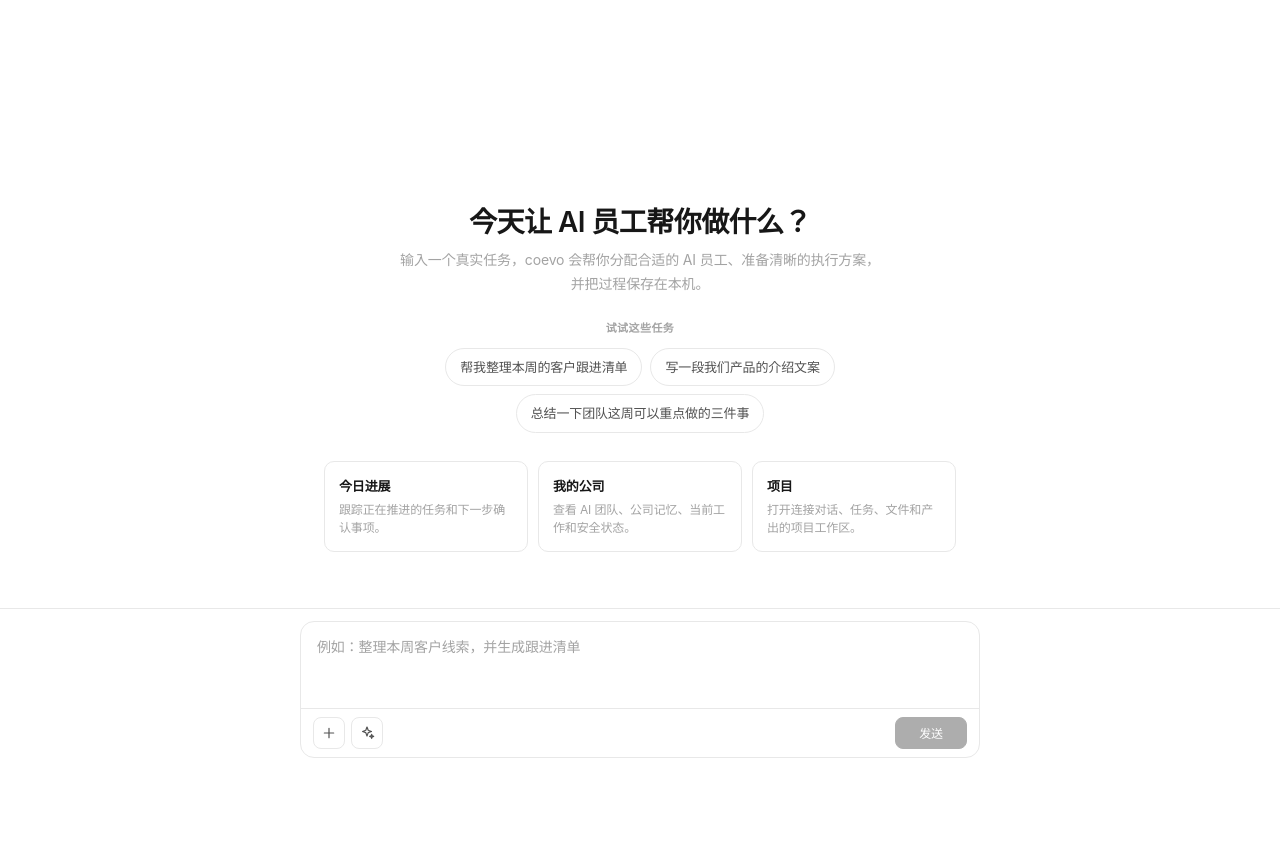
it: customer-facing desktop workbench › turns a real user task into a customer-readable task update
Step 1. Type "整理本周客户线索，并生成明天的跟进清单" into the text box with placeholder "例如：整理本周客户线索，并生成跟进清单" → (640, 662), box [301,622,979,702]
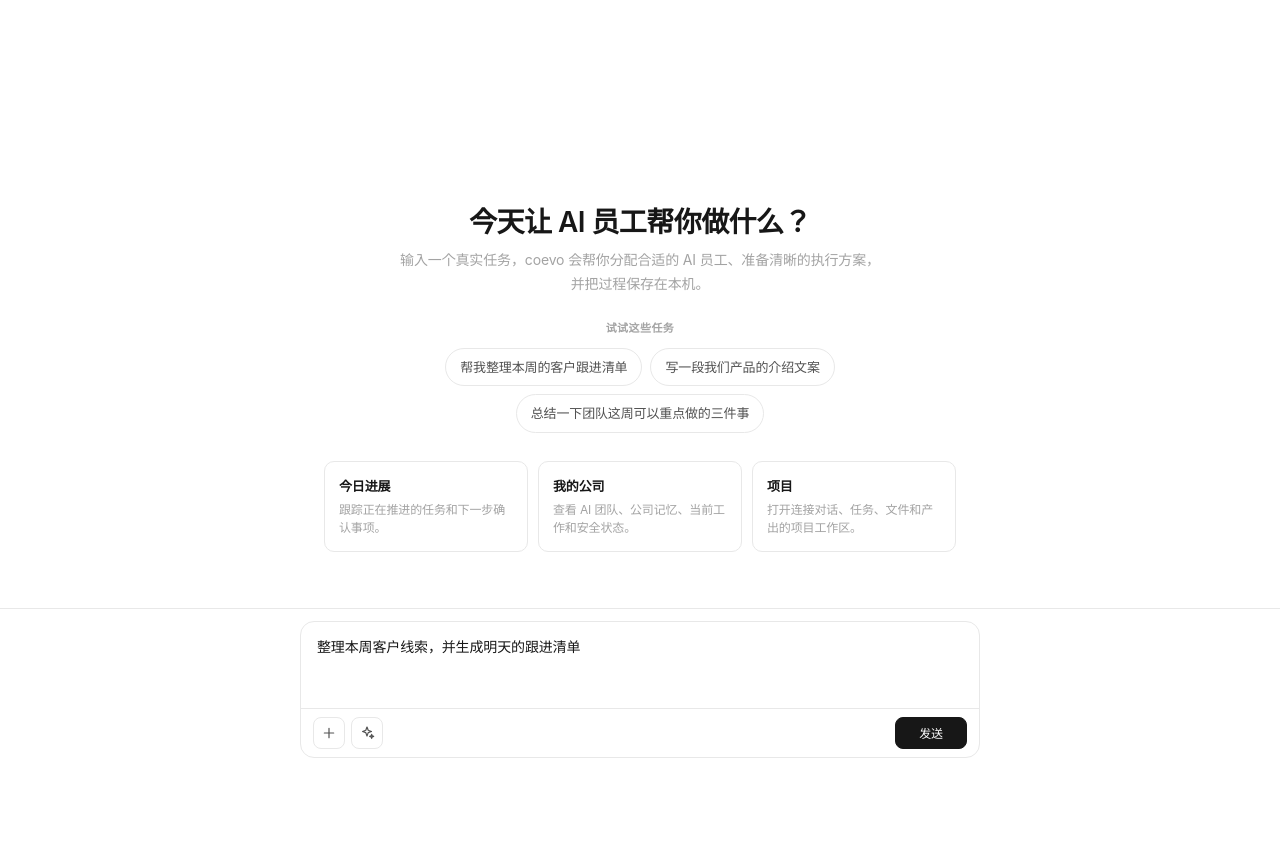
Step 2. Click the button "发送" → (931, 733), box [895,717,967,749]
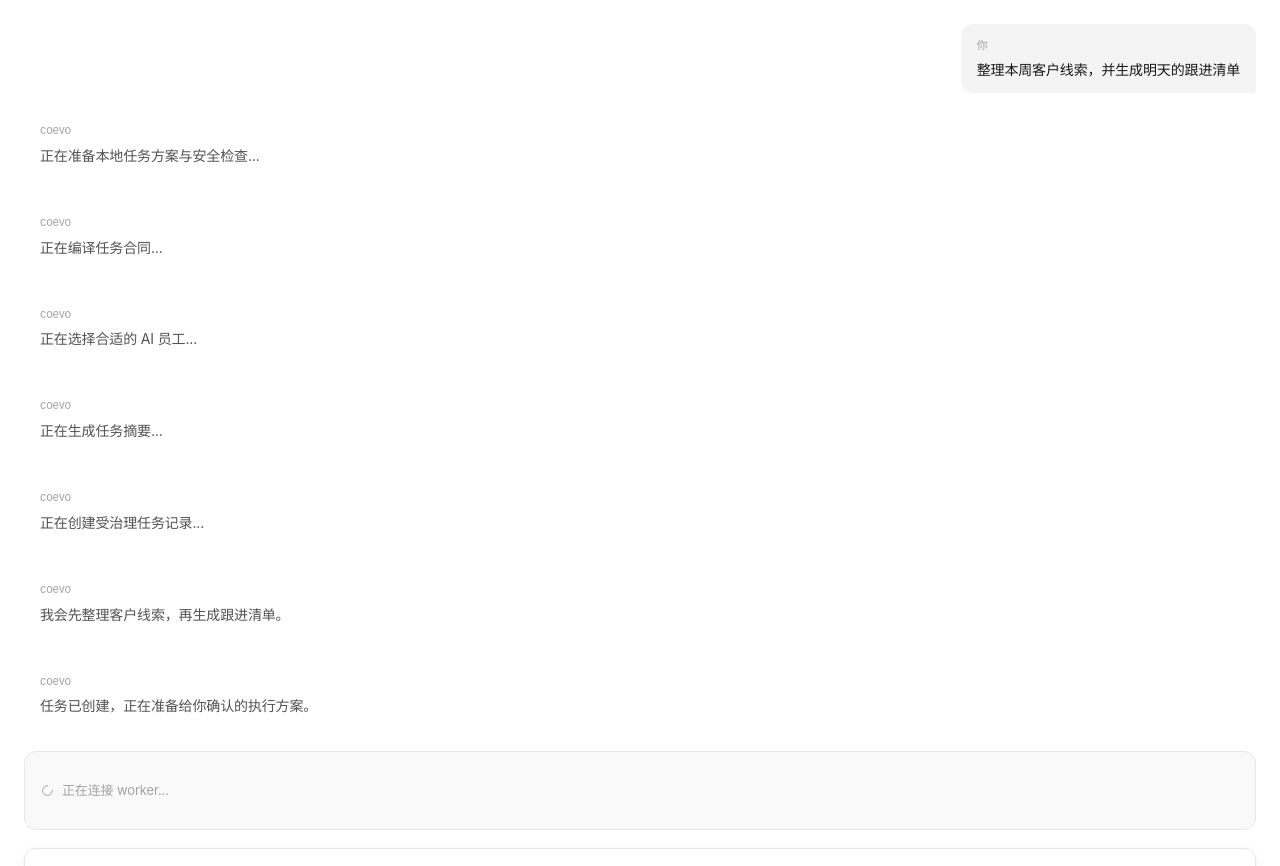
Result: the text "任务已创建，正在准备给你确认的执行方案。" is shown at [40,695,317,718]
Result: the text "我会先整理客户线索，再生成跟进清单。" is shown at [40,604,290,626]
Result: the link "安全状态" is gone
